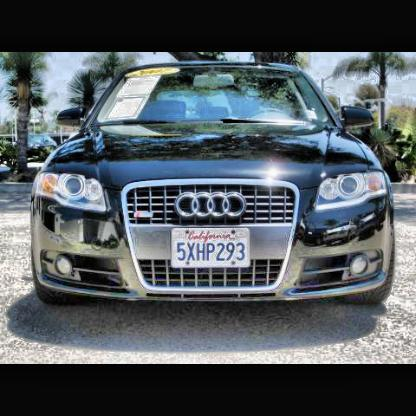Audi S4 Sedan 2007: (29, 62, 396, 318)
